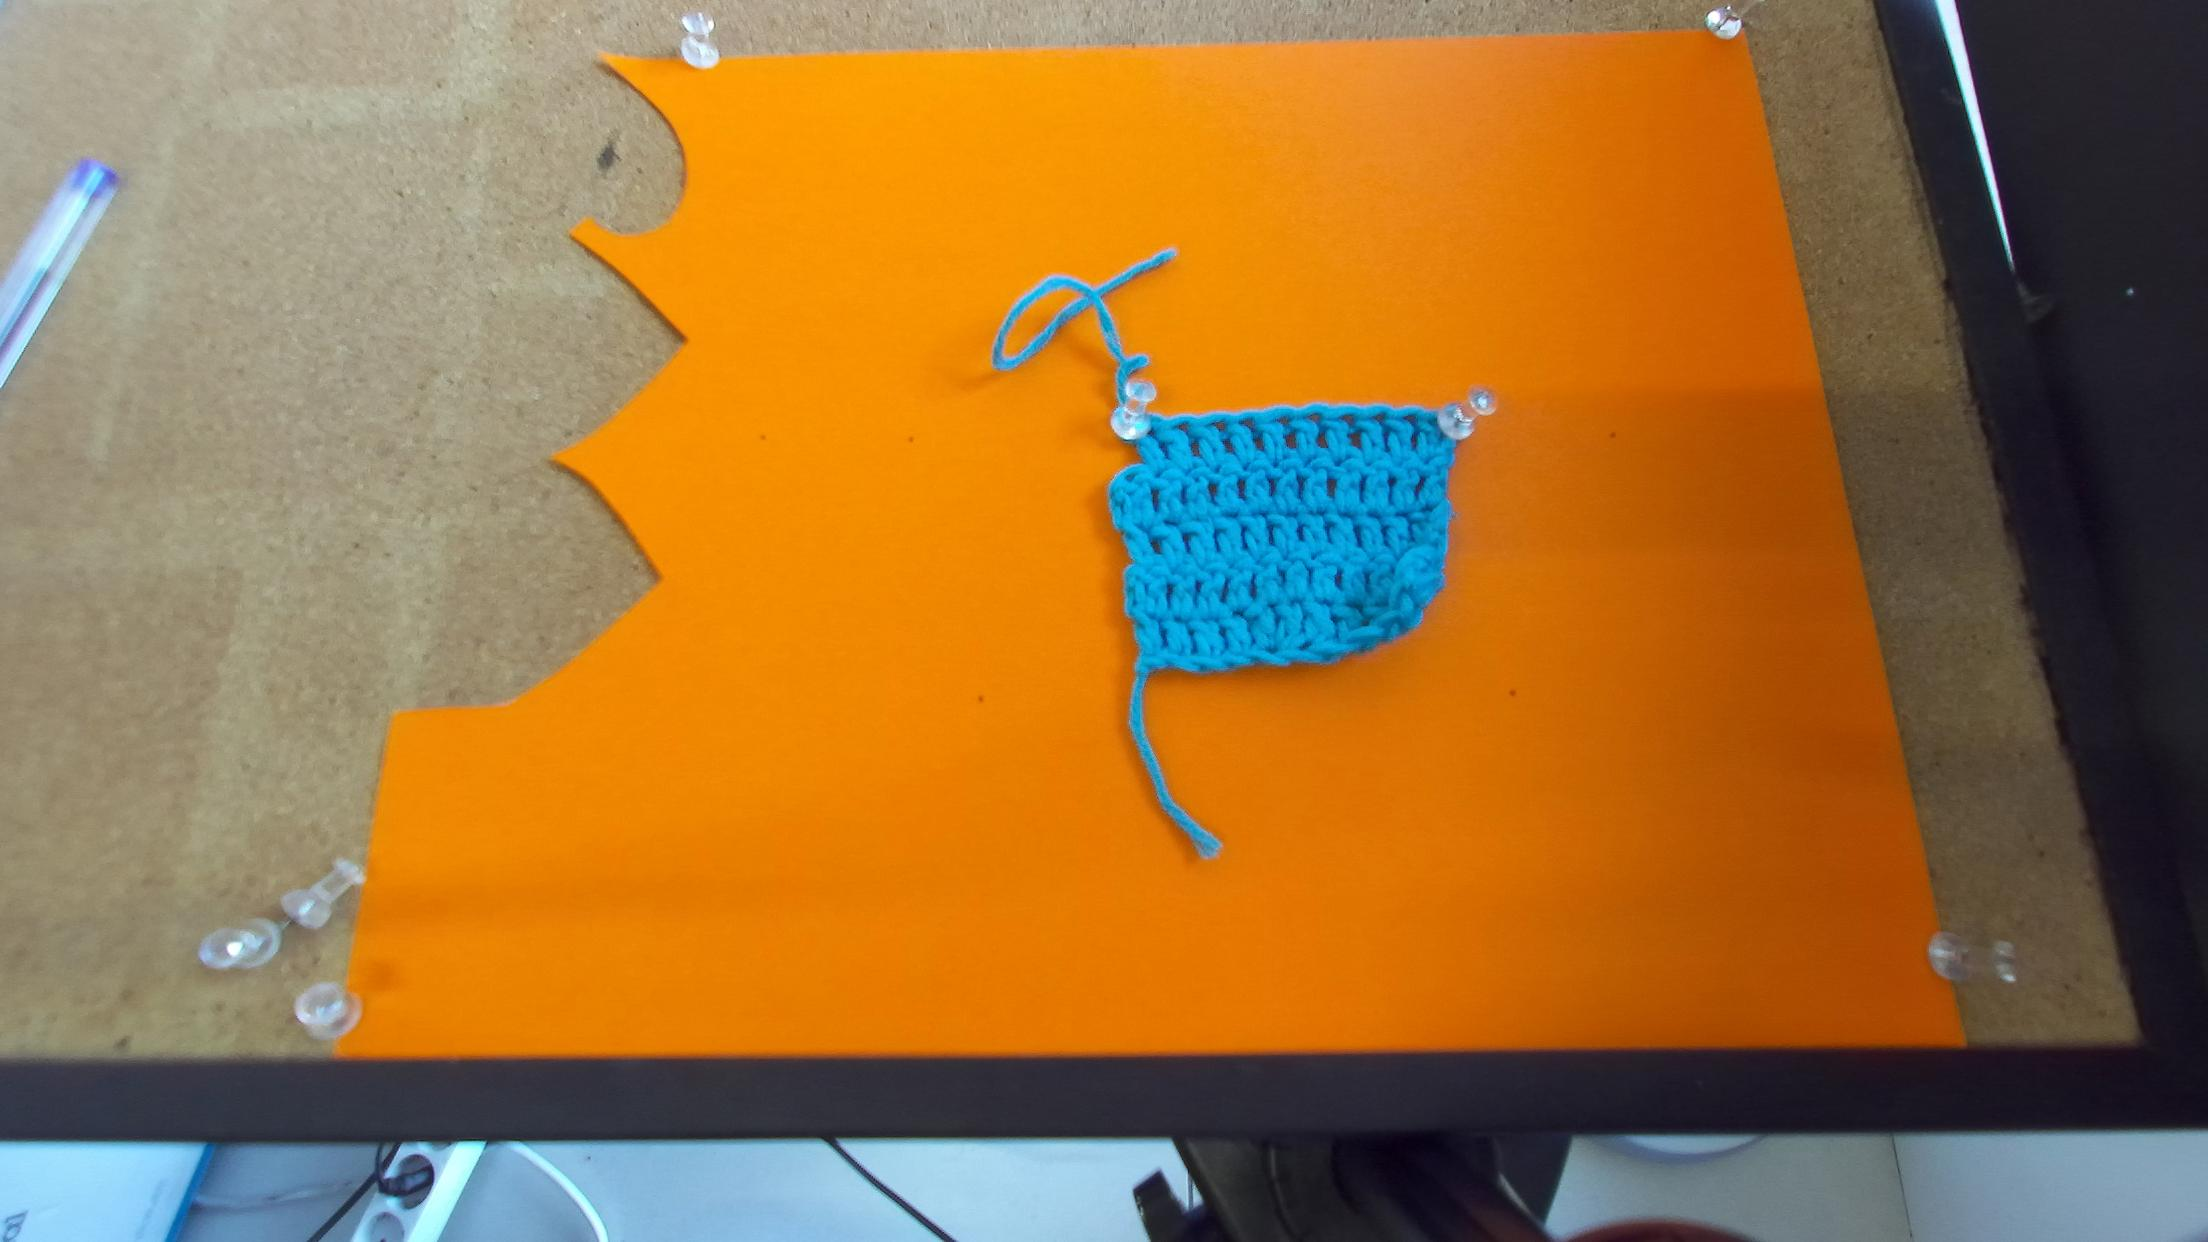hole: (1207, 422, 1228, 432), (1336, 412, 1354, 425), (1272, 416, 1292, 426), (1172, 420, 1189, 432), (1239, 419, 1256, 431), (1403, 412, 1419, 425), (1304, 414, 1322, 425), (1372, 412, 1386, 425), (1145, 426, 1157, 437)
swatch: (1102, 400, 1489, 682)
